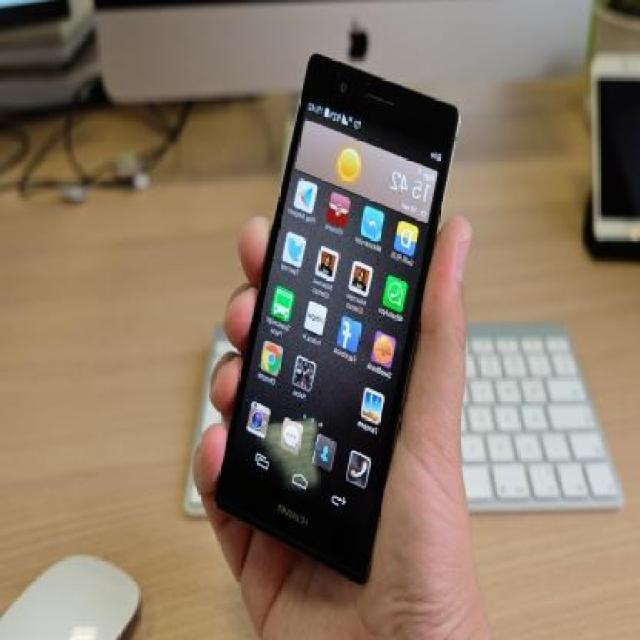phone: (206, 32, 464, 574), (589, 51, 640, 242)
